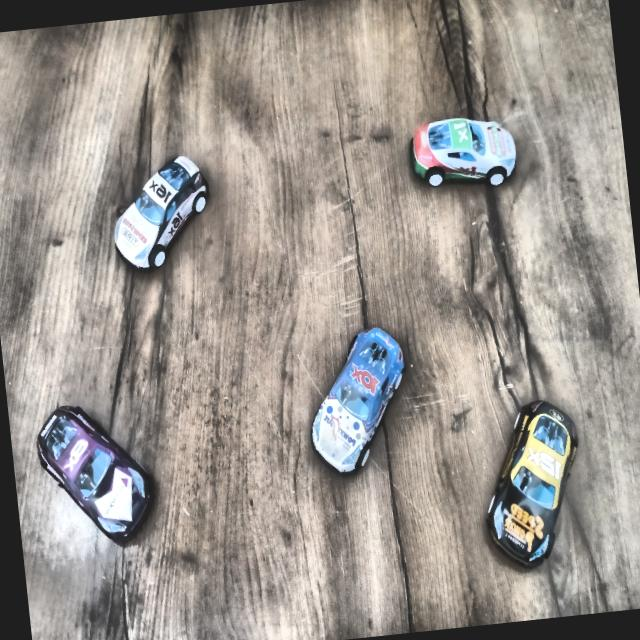Car: (472, 392, 592, 578), (32, 397, 160, 555), (294, 320, 415, 486), (105, 148, 218, 275), (403, 110, 522, 196)
